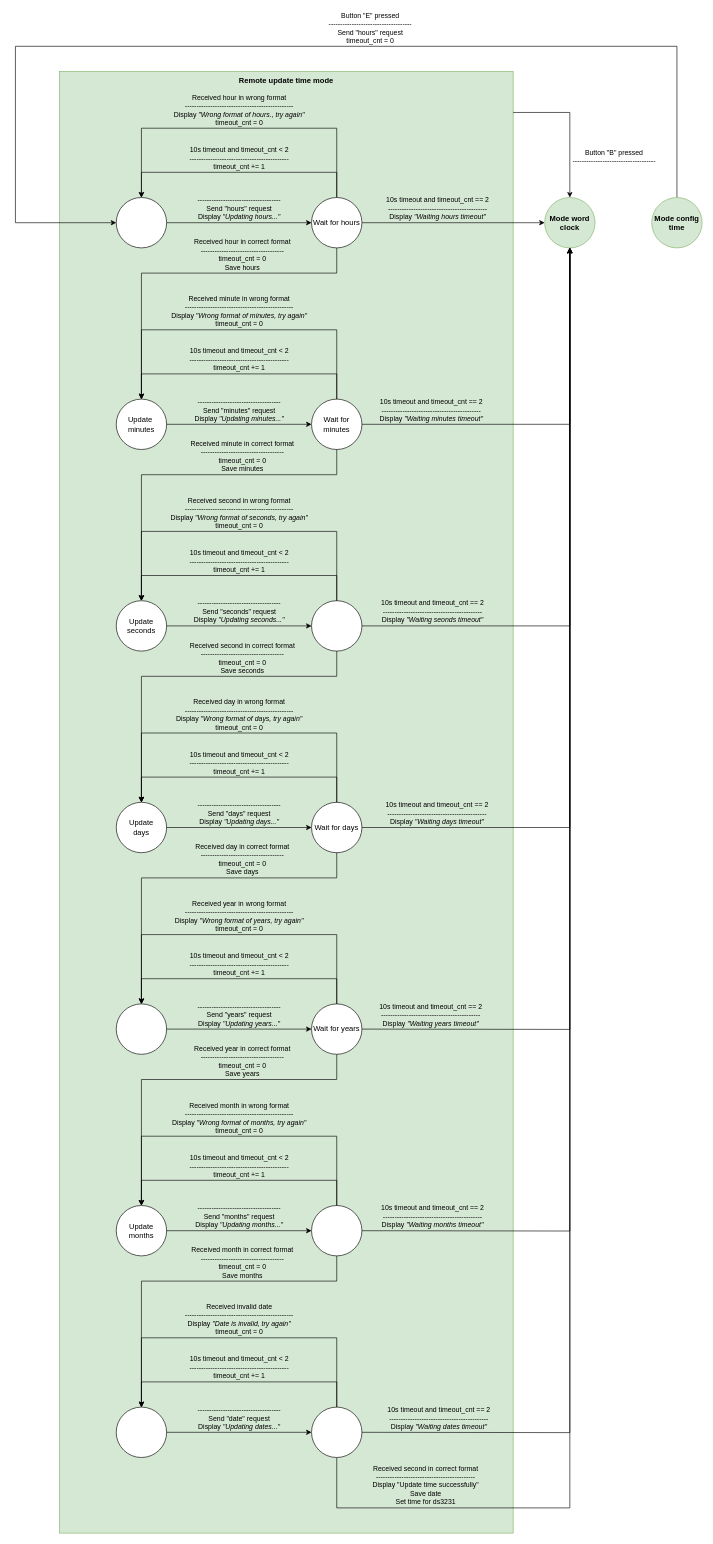
The diagram is 713 pixels wide and 1544 high, and some of its shapes have lost their labels. Each missing label, with the centre of its shape:
Update dates: [141,1432]
Update hours: [141,222]
Update years: [141,1028]
Wait for dates: [336,1432]
Wait for months: [336,1230]
Wait for seconds: [336,625]
